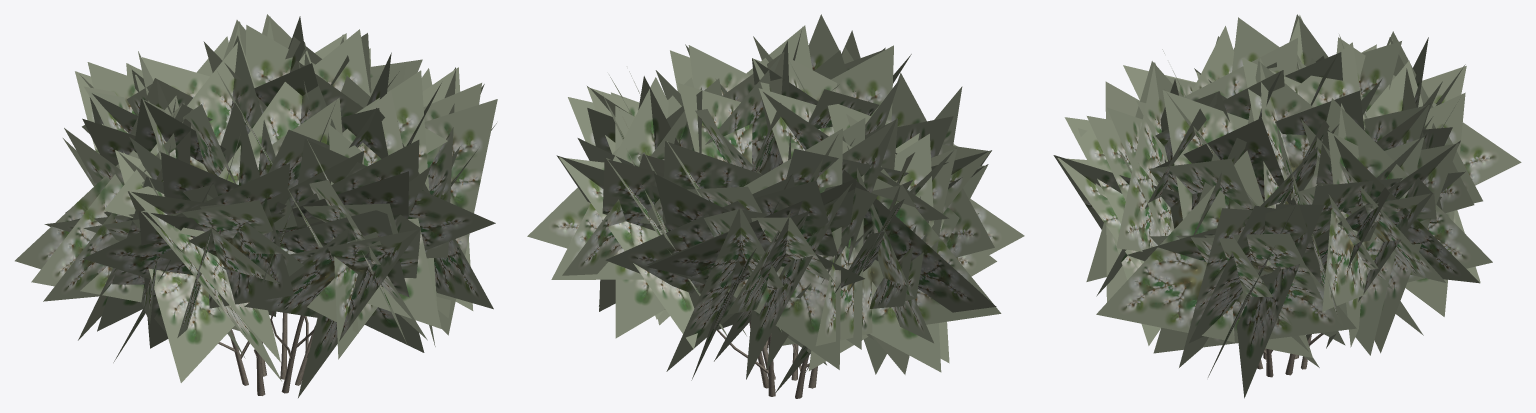
The model's file is Amelanchier_Canadensis_Spring_Young.glb.
The picture shows the model from 3 angles, left to right: view 1: azimuth 30°, elevation 25°; view 2: azimuth 150°, elevation 25°; view 3: azimuth 270°, elevation 25°; orthographic projection. The views are drawn at different scales.
Parts seen in each view (by area): view 1: Amelanchier_Canadensis_Spring_Young__LOD3; view 2: Amelanchier_Canadensis_Spring_Young__LOD3; view 3: Amelanchier_Canadensis_Spring_Young__LOD3.
Part boxes in pixels (left/top/right/bottom): Amelanchier_Canadensis_Spring_Young__LOD3: left=15, top=14, right=497, bottom=397; Amelanchier_Canadensis_Spring_Young__LOD3: left=527, top=14, right=1024, bottom=398; Amelanchier_Canadensis_Spring_Young__LOD3: left=1053, top=14, right=1521, bottom=398.
Size of the model in its own units: 2.94 by 2.1 by 2.81.
2 materials, 2 textured.
